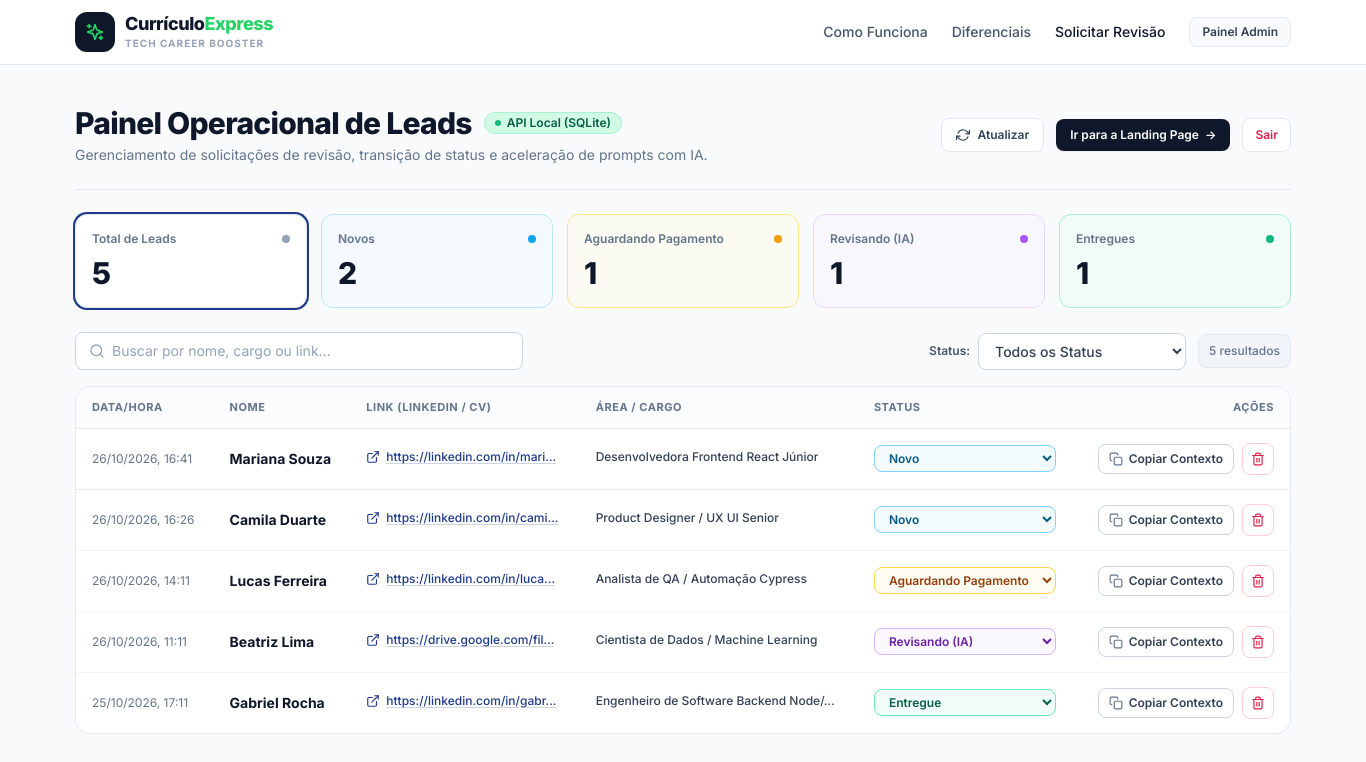
Test: Admin Authentication and Lead Deletion Features › Feature 2: Lead Deletion with Confirmation Modal › deletes lead permanently when user confirms and updates table immediately
This screenshot has width=1366, height=762.
Expected: the text "Mariana Souza" is shown, [230, 448, 334, 468]
Click the button named "Excluir lead Mariana Souza" at point(1258, 458), box [1242, 442, 1274, 474]
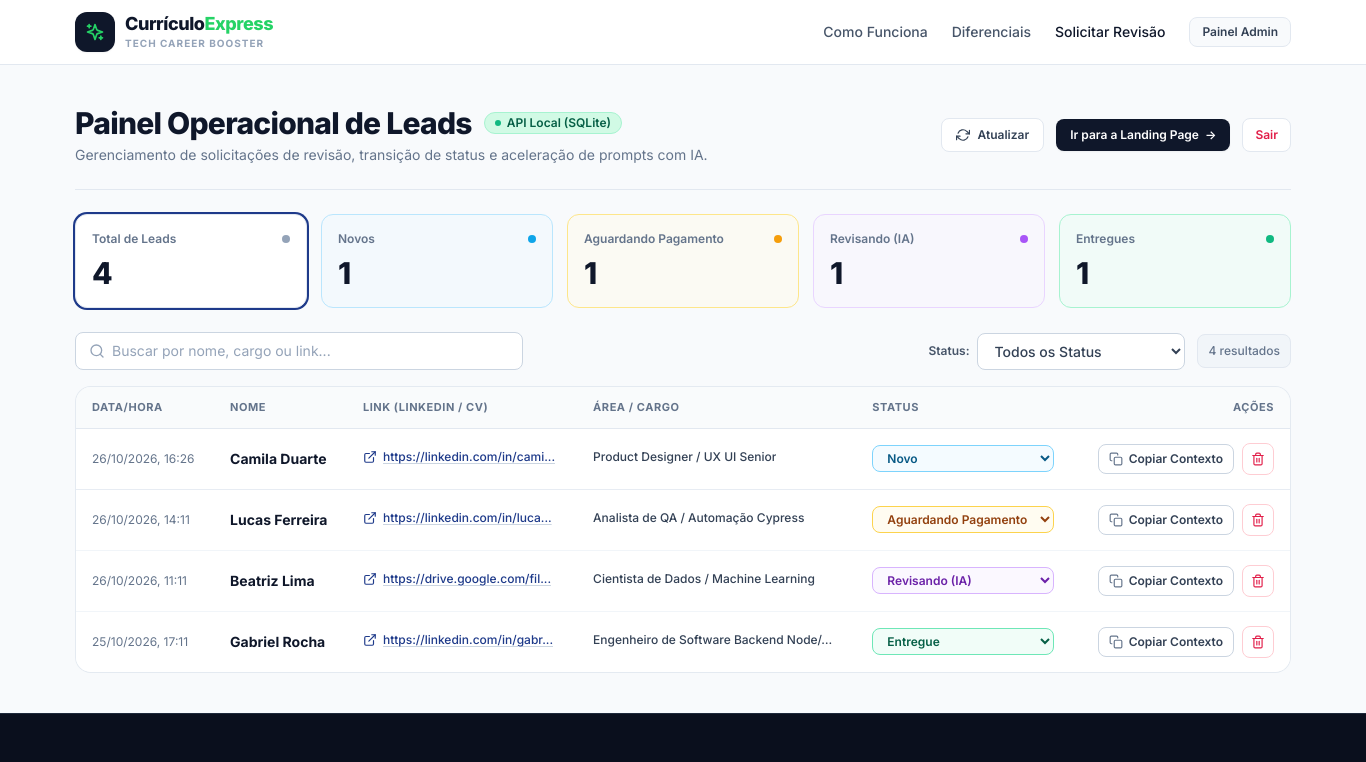
Expected: the text "Mariana Souza" is gone
